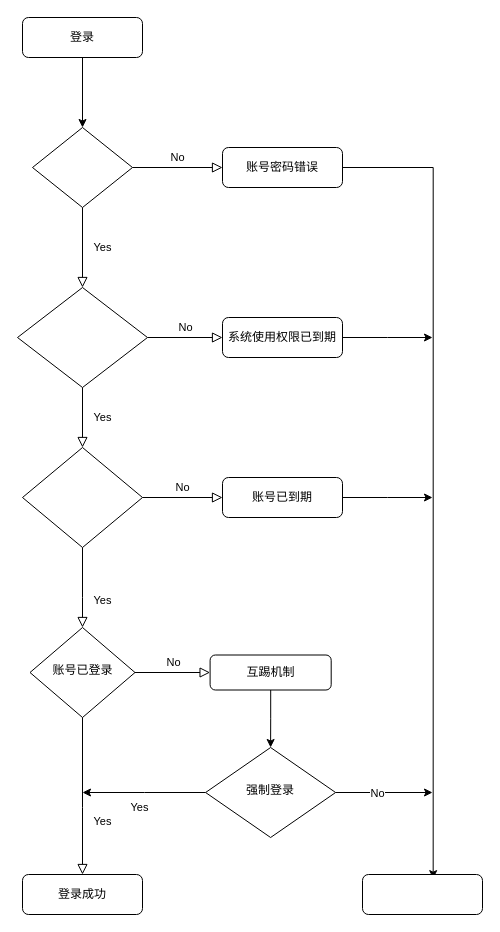
Image size: 500x932. Some labels were removed from this diagram. The box of each missing label's shape, as (x1, y1, x2, y2) in pixels:
主管理员-使用期限: (16, 286, 148, 388)
此账号-使用期限: (22, 446, 142, 548)
登录失败: (362, 874, 482, 914)
账号密码: (32, 126, 132, 208)
